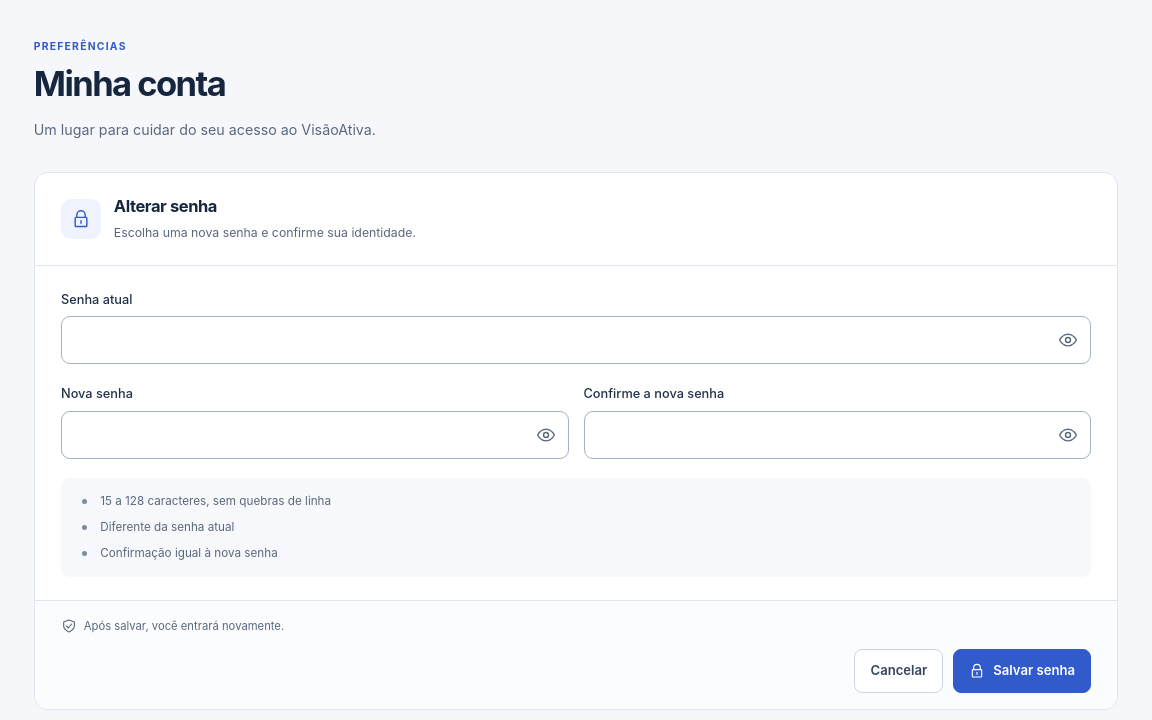
Test case: Minha conta › oferece novo login quando a sessão foi invalidada
Type "frase atual sintética para teste 123" into the password field with id "account-current-password".
click(554, 340); type("frase atual sintética para teste 123")  # box [62,317,1046,363]
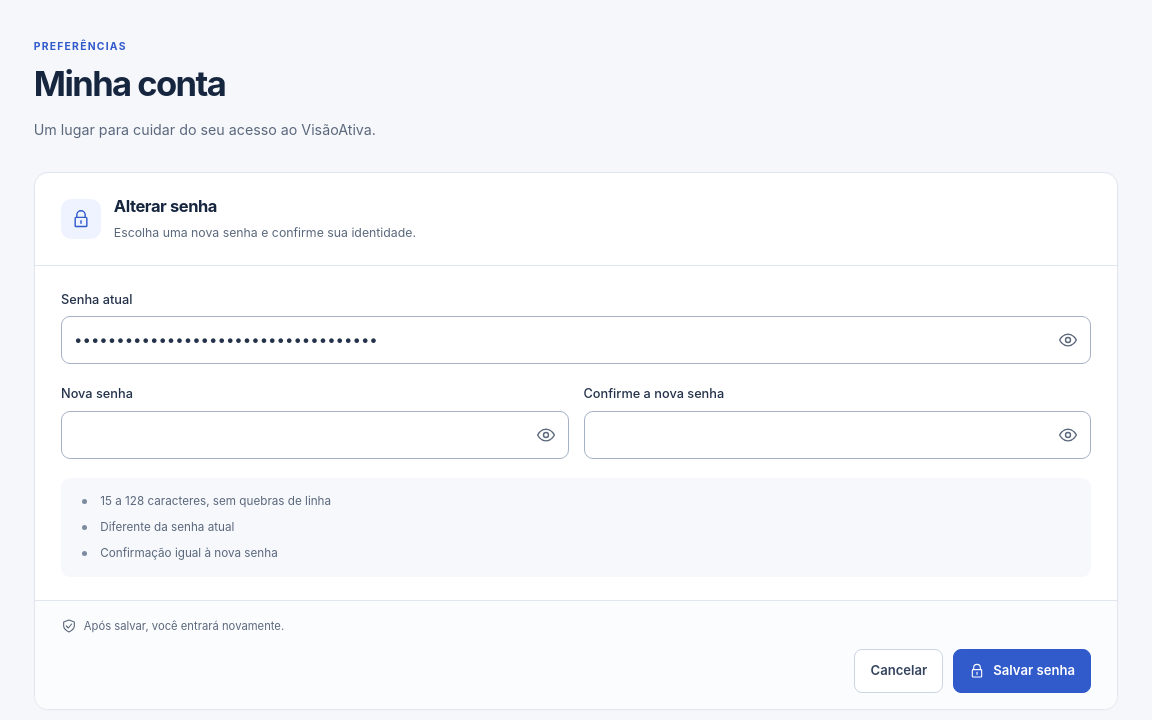
Type "nova frase sintética para teste 456" into the password field with id "account-password".
click(293, 435); type("nova frase sintética para teste 456")  # box [62,412,524,458]
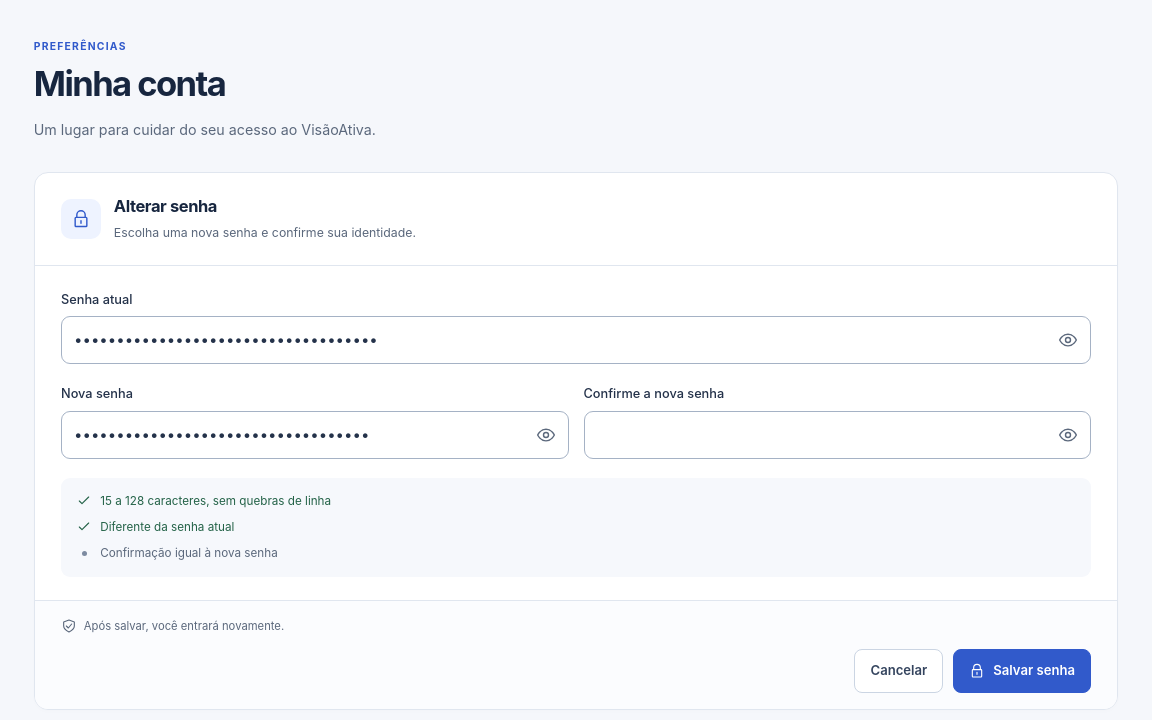
Type "nova frase sintética para teste 456" into the password field with id "account-confirmation".
click(815, 435); type("nova frase sintética para teste 456")  # box [584,412,1046,458]
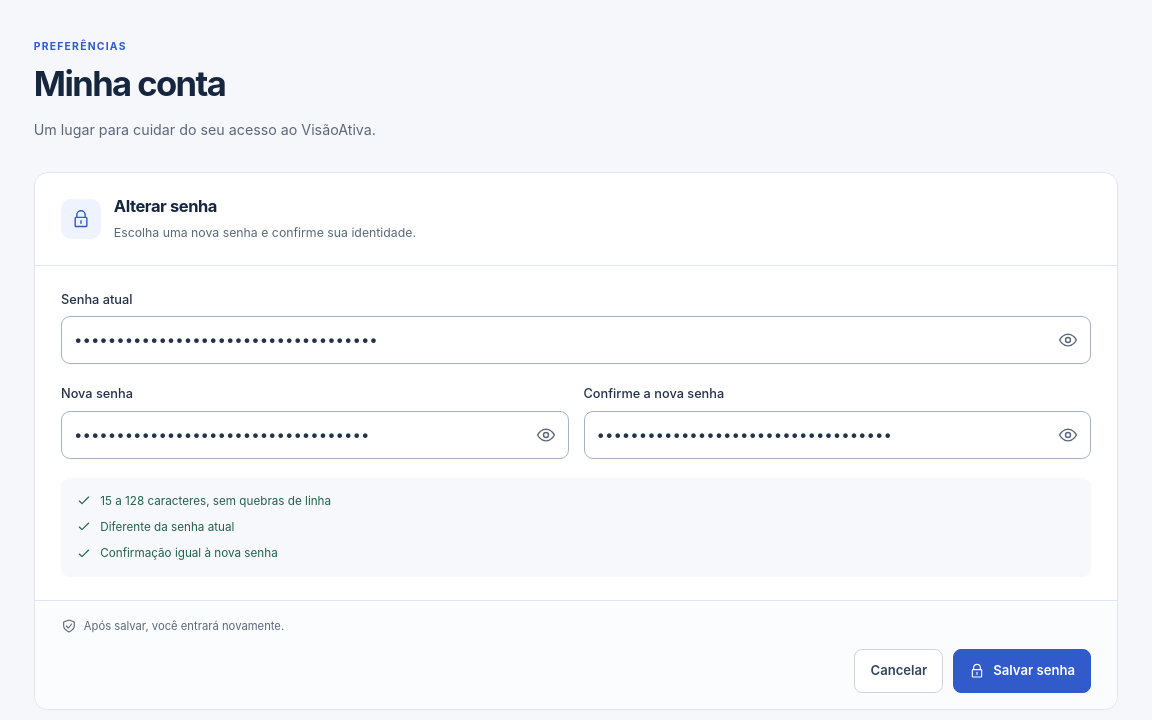
Submit the form, box [35,266,1117,709]
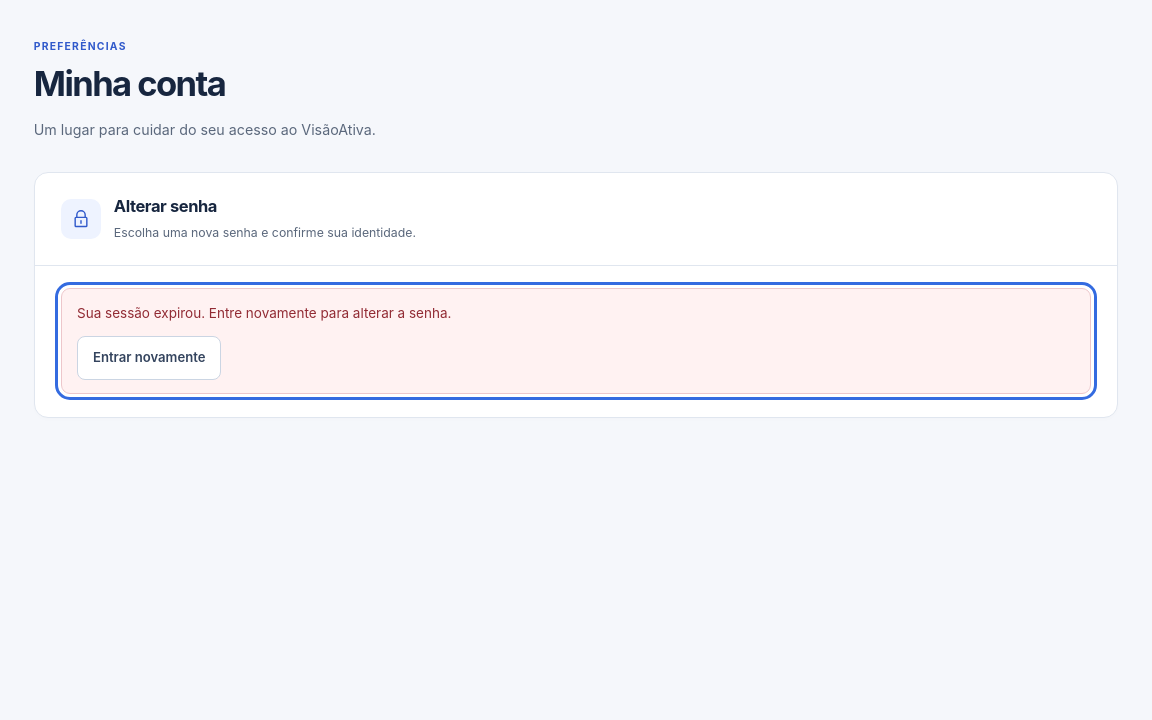
Expected: the message "Sua sessão expirou. Entre novamente para alterar a senha. Entrar novamente" is shown, [61,288,1091,394]
Expected: the link to "/entrar" reads "Entrar novamente", [77,336,221,380]
